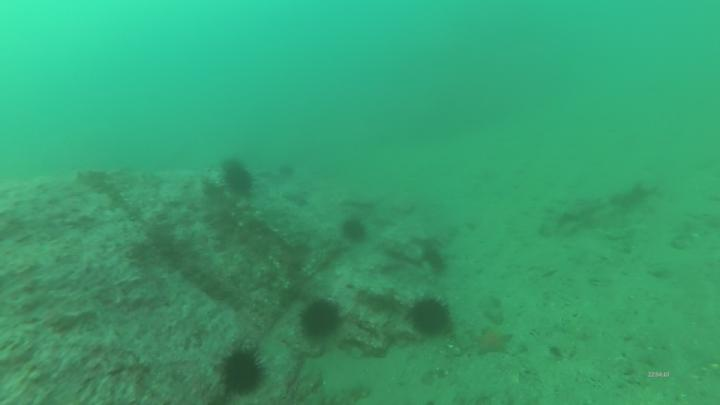echinus: (224, 351, 263, 395), (304, 302, 342, 339), (410, 301, 449, 335), (227, 164, 253, 194), (344, 216, 368, 243)
holothurian: (482, 296, 508, 324)
starfish: (479, 328, 510, 356)
